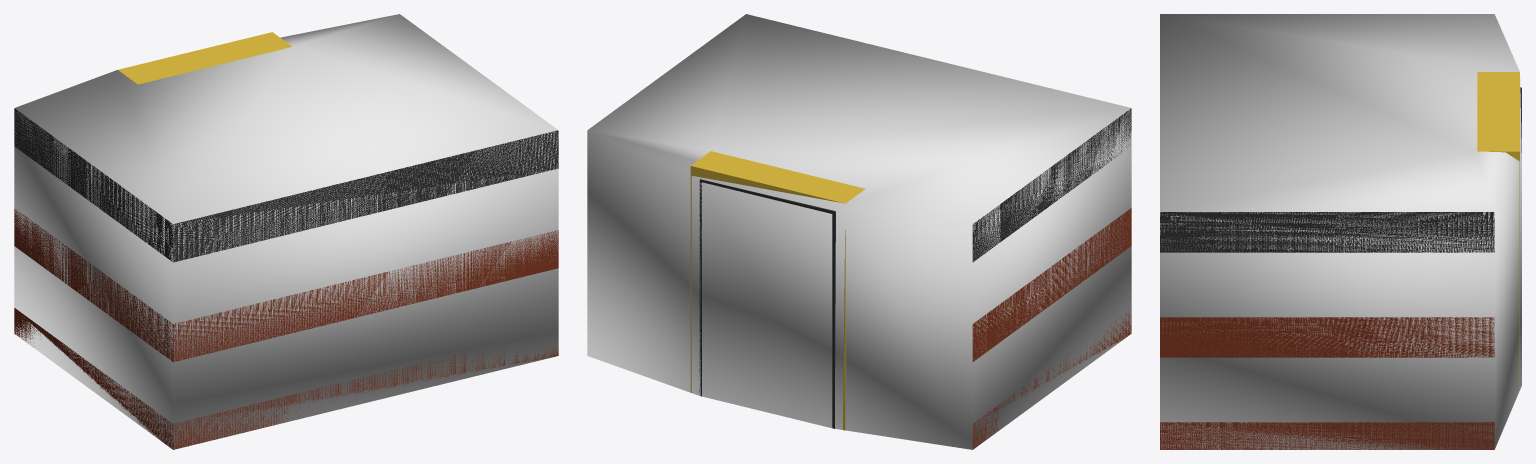
The picture shows the model from 3 angles, left to right: view 1: azimuth 30°, elevation 25°; view 2: azimuth 150°, elevation 25°; view 3: azimuth 270°, elevation 25°; orthographic projection. The views are drawn at different scales.
Visible parts, largest first — view 1: struct_city_block_low_tier2_01_col, struct_city_block_low_tier2_01; view 2: struct_city_block_low_tier2_01_col, struct_city_block_low_tier2_01; view 3: struct_city_block_low_tier2_01_col, struct_city_block_low_tier2_01.
Part boxes in pixels (x1,y1,x2,y2): struct_city_block_low_tier2_01_col: (14,14,558,449); struct_city_block_low_tier2_01: (14,32,558,449); struct_city_block_low_tier2_01_col: (587,14,1131,449); struct_city_block_low_tier2_01: (690,108,1131,449); struct_city_block_low_tier2_01_col: (1160,14,1521,449); struct_city_block_low_tier2_01: (1160,72,1521,449).
Bounding box in the file's own units: 10.14 × 5.71 × 7.83.
2 materials, 2 textured.
